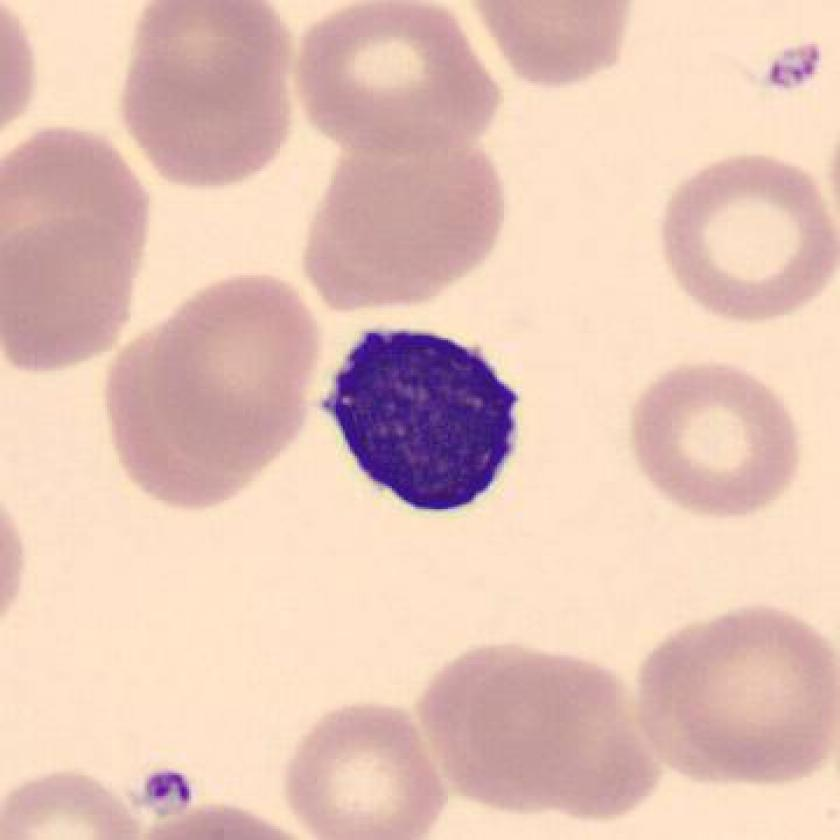lymphocyte: (311, 309, 538, 529)
